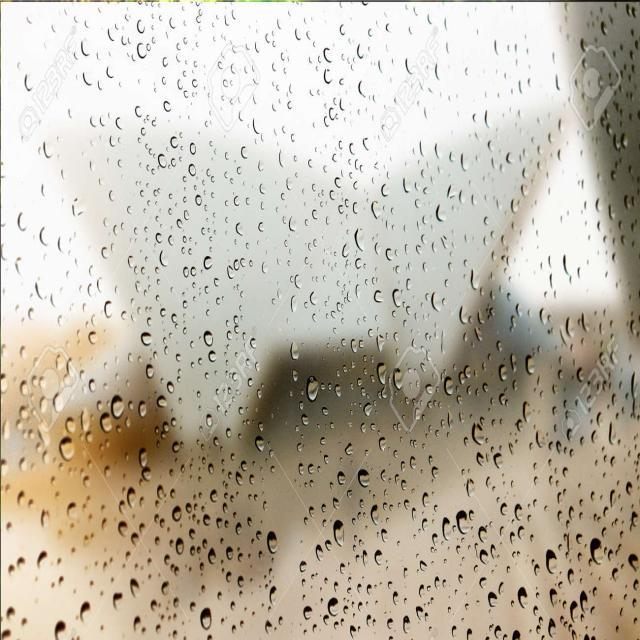raindrop: (588, 530, 607, 578), (260, 524, 282, 565), (250, 428, 276, 461), (52, 434, 77, 468), (302, 367, 323, 407), (541, 546, 562, 586), (34, 413, 54, 453), (521, 348, 541, 386), (79, 26, 101, 60), (329, 516, 348, 555), (469, 411, 492, 443), (515, 580, 534, 616), (452, 504, 472, 538), (352, 224, 372, 258), (108, 389, 128, 422), (200, 538, 222, 568), (566, 599, 586, 632), (427, 287, 448, 318), (77, 596, 95, 632), (197, 600, 216, 633), (356, 66, 372, 105), (174, 527, 190, 565), (128, 572, 144, 608), (630, 368, 640, 425), (430, 203, 448, 234), (64, 499, 82, 530), (485, 582, 503, 612), (36, 220, 54, 250), (542, 616, 564, 640), (441, 513, 456, 548), (320, 44, 338, 73), (138, 328, 158, 354), (110, 590, 127, 620), (470, 445, 490, 470), (297, 601, 317, 626), (290, 330, 303, 367), (52, 616, 72, 640), (34, 544, 50, 574), (81, 62, 98, 90), (478, 569, 497, 594), (222, 262, 240, 288), (34, 273, 49, 304), (63, 409, 80, 436), (78, 404, 90, 442), (134, 39, 152, 64), (456, 300, 470, 332), (116, 518, 132, 546), (16, 204, 30, 236), (562, 251, 576, 283), (201, 250, 218, 276), (41, 128, 54, 162), (355, 467, 374, 490), (519, 395, 533, 426), (288, 209, 302, 240), (606, 418, 620, 449), (578, 308, 592, 339), (130, 611, 146, 638), (326, 594, 342, 620), (343, 438, 361, 461), (153, 388, 170, 412), (153, 148, 170, 172), (608, 486, 622, 515), (490, 450, 505, 477), (203, 326, 219, 351), (398, 615, 414, 640), (126, 484, 140, 512), (136, 445, 150, 473), (156, 248, 172, 272), (626, 550, 640, 577), (358, 400, 374, 423), (389, 582, 402, 610), (103, 298, 117, 324), (100, 242, 114, 268), (136, 394, 148, 424), (376, 361, 389, 388), (564, 315, 577, 342), (534, 428, 548, 453), (153, 479, 168, 502), (476, 522, 491, 545), (403, 54, 416, 80), (539, 306, 552, 332), (212, 428, 224, 456), (160, 576, 172, 604), (262, 616, 276, 640), (312, 538, 324, 566), (250, 110, 262, 137), (548, 584, 560, 611), (167, 126, 181, 149), (366, 198, 386, 214), (160, 96, 176, 116), (374, 546, 386, 572), (256, 215, 269, 239), (172, 502, 184, 528), (208, 484, 221, 508), (392, 366, 404, 392), (470, 264, 481, 292), (444, 180, 458, 202), (372, 290, 388, 309), (344, 242, 356, 267), (269, 582, 279, 612), (514, 499, 526, 524), (478, 546, 491, 569), (445, 373, 456, 400), (200, 413, 218, 429), (574, 362, 586, 386), (148, 594, 161, 616), (223, 541, 236, 563), (624, 479, 637, 501), (232, 220, 246, 240), (86, 328, 100, 348), (566, 563, 576, 591), (355, 40, 367, 63), (588, 428, 600, 451), (508, 195, 520, 218), (520, 182, 532, 205), (628, 315, 639, 340), (322, 66, 335, 87), (207, 351, 220, 372), (460, 150, 470, 177), (392, 287, 404, 309), (188, 596, 200, 618), (114, 112, 125, 136), (414, 602, 426, 624), (610, 564, 622, 586), (607, 200, 619, 222), (146, 364, 159, 384), (192, 191, 205, 211), (290, 292, 300, 318), (88, 376, 101, 396), (370, 502, 380, 528), (376, 330, 386, 356), (466, 476, 476, 502), (630, 506, 640, 532), (185, 164, 201, 180), (497, 358, 507, 383), (568, 501, 578, 526), (515, 299, 526, 321), (402, 172, 412, 196), (308, 288, 320, 308), (376, 58, 388, 78), (166, 378, 178, 398), (300, 410, 312, 430), (362, 548, 372, 572), (447, 408, 457, 432), (458, 185, 468, 209), (488, 542, 498, 566), (498, 390, 510, 410), (600, 16, 610, 40), (379, 182, 392, 200), (183, 498, 196, 516), (240, 458, 252, 477), (574, 532, 588, 548), (126, 252, 136, 274), (236, 516, 246, 538), (410, 503, 420, 525), (378, 433, 388, 455), (518, 523, 528, 545), (556, 504, 566, 526), (554, 438, 564, 460), (564, 424, 574, 446), (152, 230, 164, 248), (128, 530, 140, 548), (239, 144, 251, 162), (234, 470, 246, 488), (338, 95, 348, 116), (294, 23, 304, 44), (336, 468, 346, 489), (420, 490, 430, 511), (476, 305, 486, 326), (419, 558, 430, 577), (172, 442, 185, 458), (429, 465, 441, 482), (351, 198, 361, 218), (162, 550, 172, 570), (362, 134, 372, 154), (386, 244, 396, 264), (230, 620, 240, 640), (296, 458, 306, 478), (474, 324, 484, 344), (500, 499, 510, 519), (505, 148, 515, 168), (612, 130, 622, 150), (256, 156, 267, 174), (328, 308, 339, 326), (439, 234, 450, 252), (465, 624, 477, 640), (347, 140, 357, 159), (236, 569, 246, 588), (450, 621, 460, 640), (298, 558, 309, 575), (335, 172, 344, 192), (202, 512, 212, 530), (224, 564, 234, 582), (248, 470, 258, 488), (261, 258, 271, 276), (306, 460, 316, 478), (380, 527, 390, 545), (409, 454, 418, 474), (380, 382, 390, 400), (457, 410, 467, 428), (424, 379, 434, 397), (462, 362, 472, 380), (331, 496, 342, 512), (356, 282, 364, 304), (622, 130, 630, 152), (328, 186, 337, 205), (338, 21, 348, 38), (386, 615, 396, 632), (134, 104, 143, 122), (294, 272, 303, 290), (168, 14, 177, 32), (161, 420, 170, 438), (291, 365, 300, 383), (455, 391, 464, 409), (330, 105, 338, 125), (181, 296, 191, 312), (133, 278, 143, 294), (214, 516, 224, 532), (228, 596, 238, 612), (236, 548, 246, 564), (137, 520, 147, 536), (250, 336, 260, 352), (344, 486, 354, 502), (350, 336, 358, 356), (400, 456, 408, 476), (414, 242, 424, 258), (312, 208, 321, 225), (232, 192, 241, 209), (224, 424, 233, 441), (355, 257, 364, 274), (286, 174, 294, 193), (339, 559, 347, 578), (433, 573, 441, 592), (406, 275, 414, 294), (182, 209, 192, 224), (258, 181, 268, 196), (412, 407, 422, 422), (432, 530, 439, 551), (190, 262, 198, 280), (254, 38, 262, 56), (170, 310, 179, 326), (188, 526, 197, 542), (254, 356, 262, 374), (334, 382, 342, 400), (308, 504, 316, 522), (324, 537, 333, 553), (349, 622, 357, 640), (403, 494, 411, 512), (380, 466, 388, 484), (458, 370, 466, 388), (401, 474, 408, 494), (510, 528, 517, 548), (188, 137, 196, 154), (170, 413, 178, 430), (332, 579, 340, 596), (366, 580, 374, 597), (419, 580, 425, 602), (320, 405, 330, 418), (336, 136, 344, 152), (222, 500, 230, 516), (256, 386, 264, 402), (323, 453, 331, 469), (332, 617, 340, 633), (360, 384, 368, 400), (422, 258, 430, 274), (181, 264, 190, 278), (161, 55, 170, 69), (175, 352, 184, 366), (158, 306, 168, 318), (231, 369, 239, 384), (301, 514, 309, 529), (356, 509, 364, 524), (366, 611, 372, 631), (434, 426, 442, 441), (416, 196, 424, 211), (394, 470, 401, 487), (213, 277, 222, 290), (322, 614, 330, 628), (176, 216, 184, 230), (176, 78, 184, 92), (191, 77, 199, 91), (247, 376, 254, 392), (296, 440, 304, 454), (319, 433, 327, 447), (342, 602, 350, 616), (357, 598, 364, 614), (356, 580, 364, 594), (356, 374, 364, 388), (312, 237, 320, 251), (422, 518, 429, 534), (439, 416, 447, 430), (467, 382, 474, 398), (358, 495, 366, 508), (226, 328, 233, 342), (321, 502, 328, 516), (427, 452, 434, 466), (146, 316, 154, 328), (232, 314, 240, 326), (342, 361, 348, 377), (238, 404, 245, 417), (240, 257, 247, 270), (248, 258, 255, 271), (341, 336, 348, 349), (393, 448, 400, 461), (233, 324, 240, 336), (315, 462, 322, 474), (321, 518, 328, 530), (336, 300, 342, 314), (244, 358, 252, 368), (309, 478, 317, 488), (346, 586, 353, 596)
